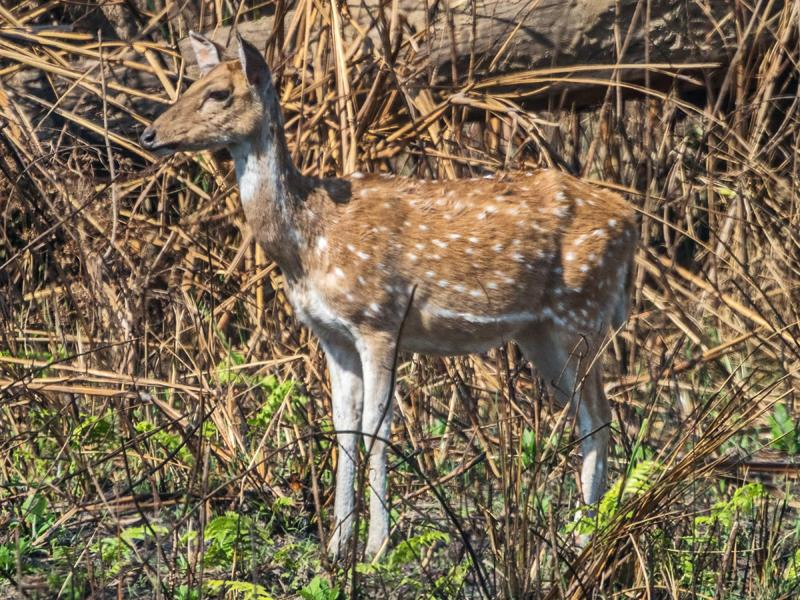Deer: (141, 33, 635, 553)
